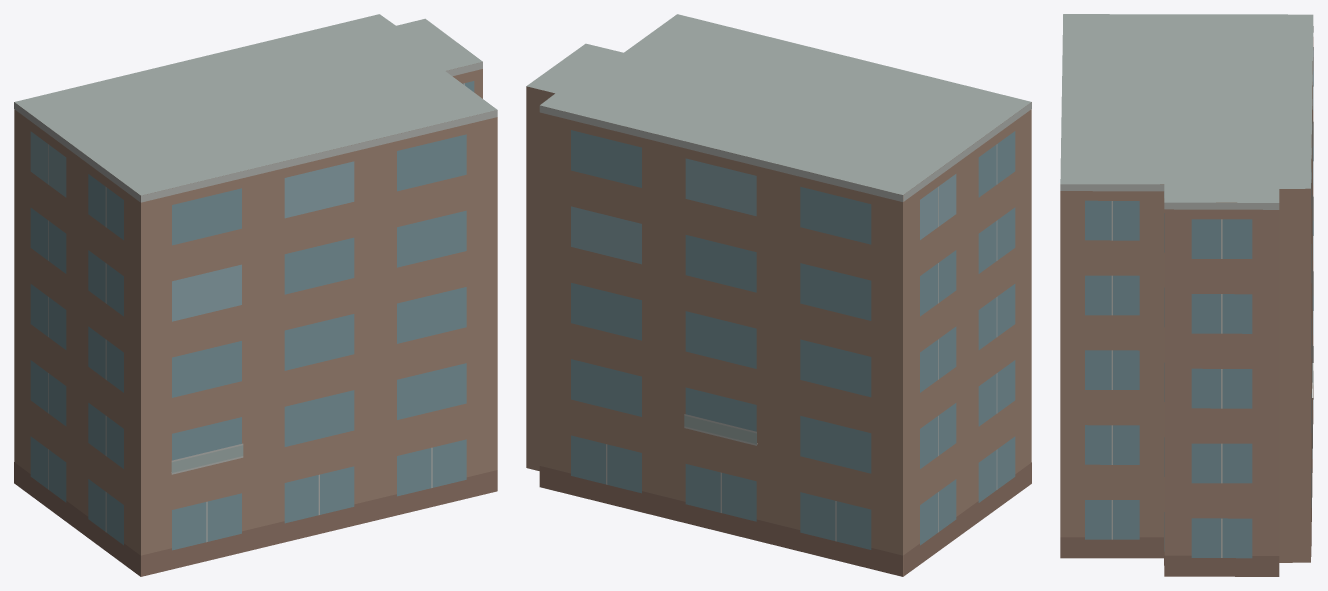
Rendered from survey-upis-32637955.glb.
The picture shows the model from 3 angles, left to right: view 1: azimuth 30°, elevation 25°; view 2: azimuth 150°, elevation 25°; view 3: azimuth 270°, elevation 25°; orthographic projection. The views are drawn at different scales.
Parts seen in each view (by area): view 1: survey-upis-32637955.tmp; view 2: survey-upis-32637955.tmp; view 3: survey-upis-32637955.tmp.
Part boxes in pixels (box(x1,y1,x2,y2)): survey-upis-32637955.tmp: box(14, 14, 497, 576); survey-upis-32637955.tmp: box(526, 14, 1031, 576); survey-upis-32637955.tmp: box(1060, 14, 1313, 576).
Size of the model in its own units: 14.26 by 13.15 by 8.08.
